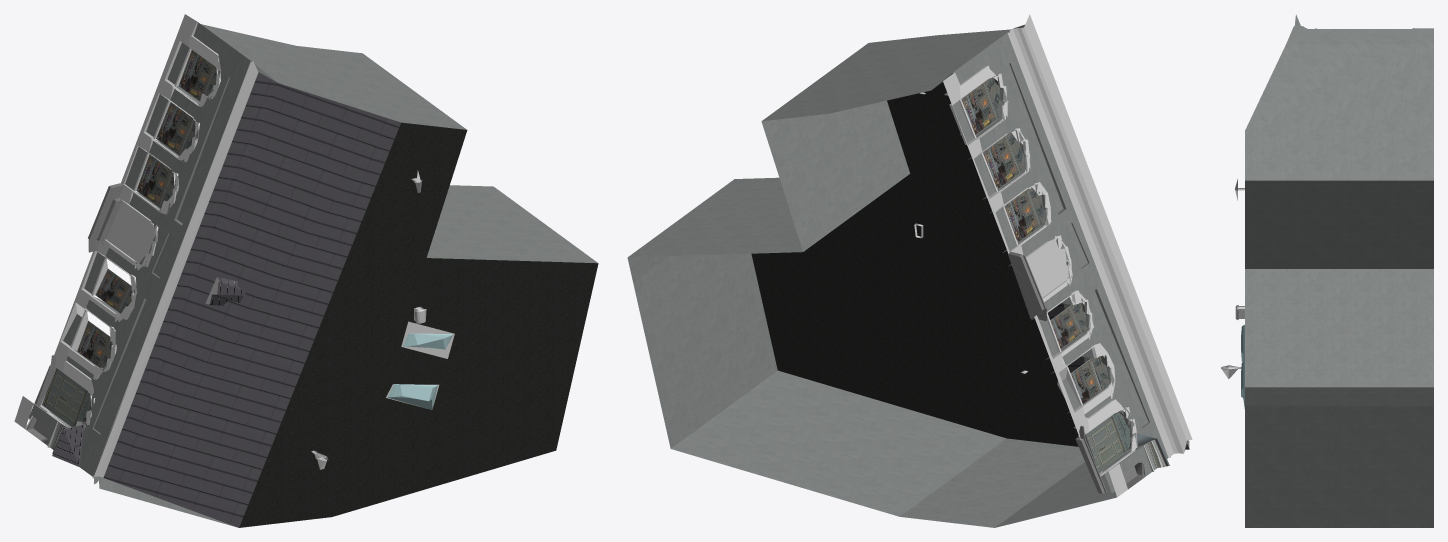
File: Vana-Viru_8-origo.obj
The picture shows the model from 3 angles, left to right: view 1: azimuth 30°, elevation 25°; view 2: azimuth 150°, elevation 25°; view 3: azimuth 270°, elevation 25°; orthographic projection. The views are drawn at different scales.
Visible parts, largest first — view 1: Vana_Viru_8; view 2: Vana_Viru_8; view 3: Vana_Viru_8.
Part boxes in pixels (bbox=[...]): Vana_Viru_8: bbox=[14, 14, 598, 527]; Vana_Viru_8: bbox=[627, 14, 1192, 527]; Vana_Viru_8: bbox=[1221, 14, 1433, 527].
Size of the model in its own units: 21.56 by 19 by 9.08.
